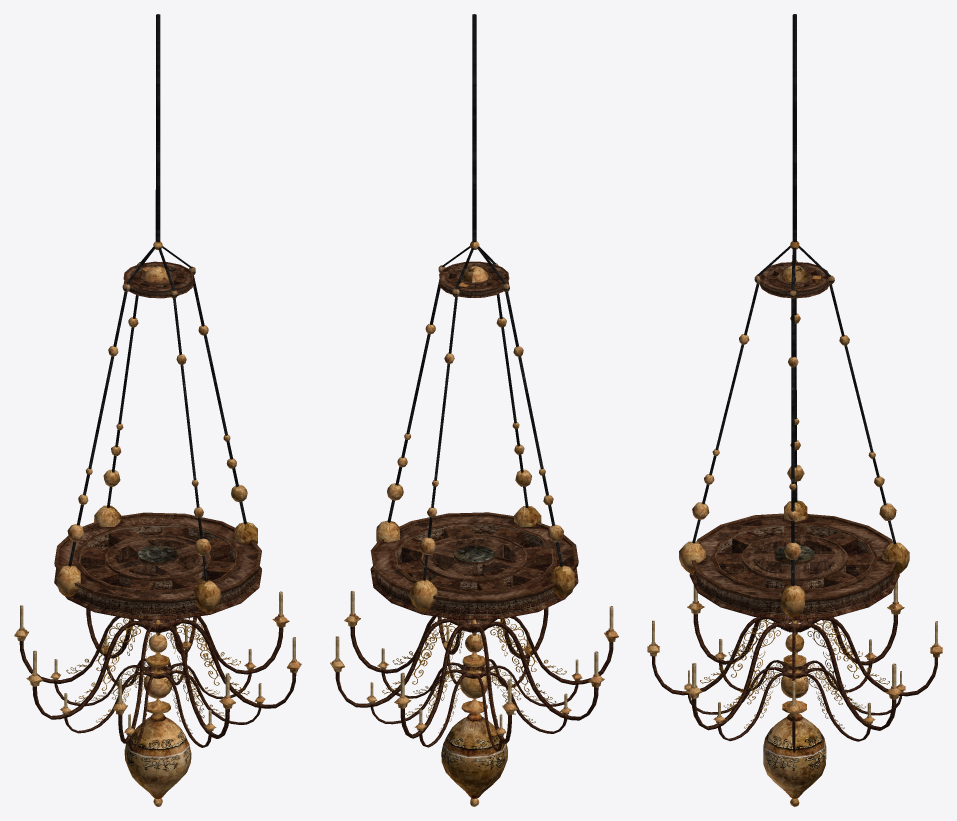
The model's file is M_Home_Garden_chandelier2.fbx.
The picture shows the model from 3 angles, left to right: view 1: azimuth 30°, elevation 25°; view 2: azimuth 150°, elevation 25°; view 3: azimuth 270°, elevation 25°; orthographic projection.
Visible parts, largest first — view 1: M_Home_Garden_chandelier2; view 2: M_Home_Garden_chandelier2; view 3: M_Home_Garden_chandelier2.
Boxes of the visible parts, left/top/right/bottom form: M_Home_Garden_chandelier2: left=14, top=14, right=301, bottom=806; M_Home_Garden_chandelier2: left=330, top=14, right=618, bottom=806; M_Home_Garden_chandelier2: left=647, top=14, right=942, bottom=806.
Bounding box in the file's own units: 390 × 1154 × 390.
